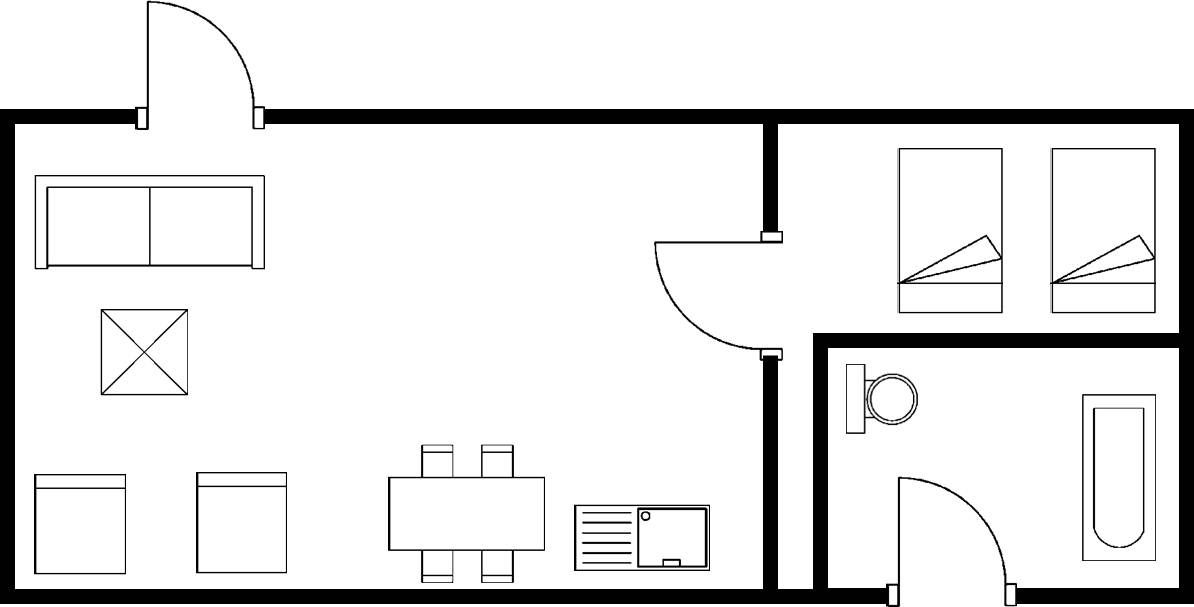bed: (892, 141, 1011, 320), (1045, 141, 1163, 321)
coffee_table: (93, 302, 196, 404)
dining_table: (381, 438, 554, 586)
large_sink: (841, 358, 923, 441)
large_sofa: (29, 169, 270, 280)
sink: (568, 497, 717, 579)
small_sofa: (187, 463, 295, 583), (29, 469, 133, 582)
tub: (1073, 384, 1162, 567)
